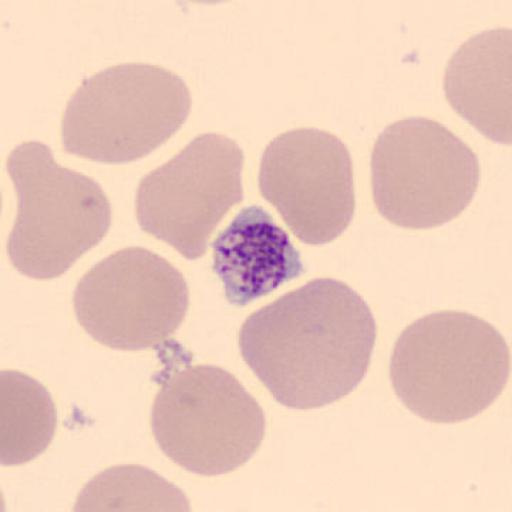Platelet: (208, 205, 307, 308)
RBC: (236, 275, 378, 413), (4, 138, 113, 282), (132, 130, 246, 264), (387, 307, 510, 426), (59, 60, 197, 166), (147, 360, 268, 479), (368, 113, 482, 231), (70, 244, 192, 354), (254, 125, 356, 249), (442, 26, 512, 146), (70, 462, 195, 512), (2, 368, 58, 468), (166, 0, 249, 6)
